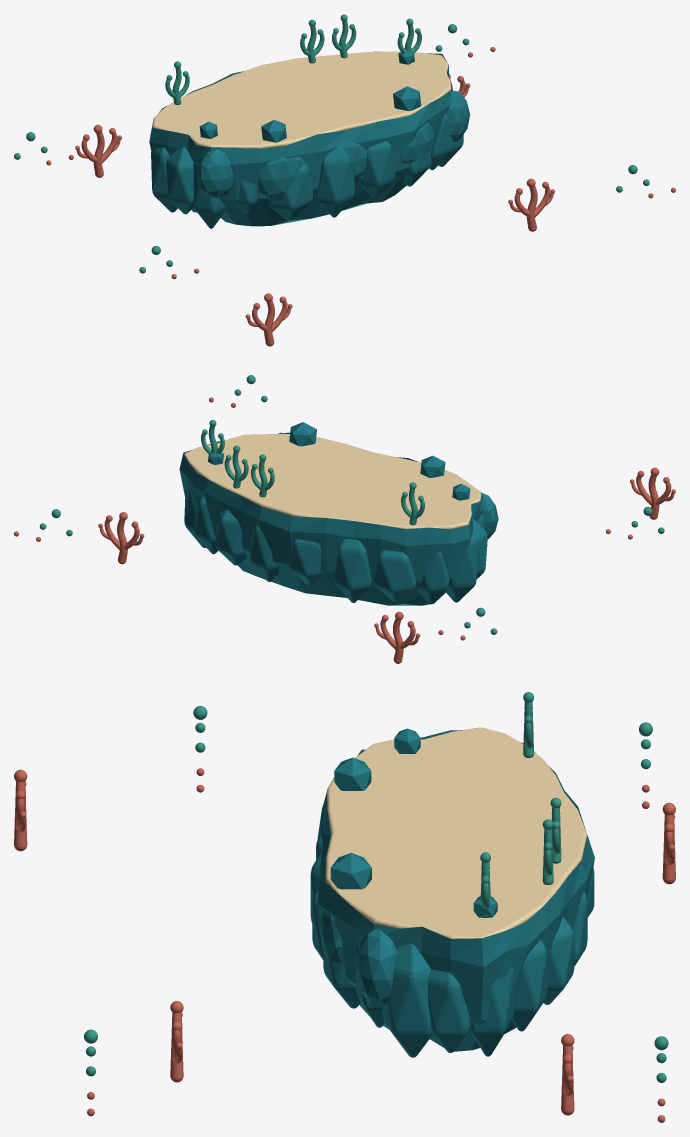
The model's file is island.glb.
3 renders of one model, top to bottom at view 1: azimuth 30°, elevation 25°; view 2: azimuth 150°, elevation 25°; view 3: azimuth 270°, elevation 25°, orthographic. The views are drawn at different scales.
Visible parts, largest first — view 1: Sandy island top, Faceted rocky island, Cliff column.014, Cliff column.010, Cliff boulder, Cliff boulder.001, Cliff column.015, Cliff column.013, Cliff column.009, Cliff column.011, Cliff boulder.004, Cliff boulder.003 (+5 smaller); view 2: Sandy island top, Faceted rocky island, Cliff column.006, Cliff column.007, Cliff column.003, Cliff column.005, Cliff column.009, Cliff column.008, Cliff column.004, Cliff column.002, Cliff column.010, Faceted stone.002 (+3 smaller); view 3: Sandy island top, Faceted rocky island, Cliff column.018, Cliff column, Cliff boulder.004, Cliff column.001, Cliff column.002, Cliff column.003, Faceted stone.002, Faceted stone.001, Cliff column.016, Cliff boulder.003 (+1 smaller).
Part boxes in pixels (x1,y1,x2,y2): Sandy island top: [152, 51, 451, 148]; Faceted rocky island: [149, 51, 452, 226]; Cliff column.014: [315, 144, 354, 217]; Cliff column.010: [166, 146, 194, 214]; Cliff boulder: [197, 149, 234, 198]; Cliff boulder.001: [258, 157, 310, 201]; Cliff column.015: [360, 141, 395, 198]; Cliff column.013: [269, 165, 312, 220]; Cliff column.009: [151, 147, 177, 212]; Cliff column.011: [193, 138, 226, 228]; Cliff boulder.004: [447, 90, 470, 141]; Cliff boulder.003: [400, 122, 434, 164]; Sandy island top: [184, 434, 481, 529]; Faceted rocky island: [179, 432, 482, 605]; Cliff column.006: [333, 539, 371, 602]; Cliff column.007: [373, 550, 415, 602]; Cliff column.003: [215, 509, 246, 565]; Cliff column.005: [288, 539, 322, 585]; Cliff column.009: [445, 533, 477, 602]; Cliff column.008: [417, 552, 448, 604]; Cliff column.004: [250, 525, 279, 581]; Cliff column.002: [194, 495, 218, 554]; Cliff column.010: [472, 518, 487, 578]; Faceted stone.002: [289, 422, 316, 446]; Sandy island top: [325, 727, 587, 938]; Faceted rocky island: [318, 730, 594, 1051]; Cliff column.018: [382, 943, 433, 1057]; Cliff column: [427, 969, 470, 1052]; Cliff boulder.004: [356, 929, 396, 1006]; Cliff column.001: [470, 967, 514, 1056]; Cliff column.002: [512, 940, 547, 1031]; Cliff column.003: [543, 917, 574, 1004]; Faceted stone.002: [330, 853, 371, 889]; Faceted stone.001: [334, 757, 371, 790]; Cliff column.016: [323, 923, 360, 1008]; Cliff boulder.003: [319, 911, 343, 962].
Bounding box in the file's own units: 11.31 × 3.03 × 8.47.
